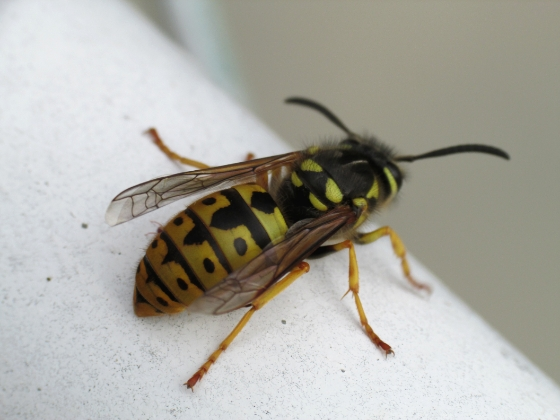chax: (108, 84, 531, 400)
